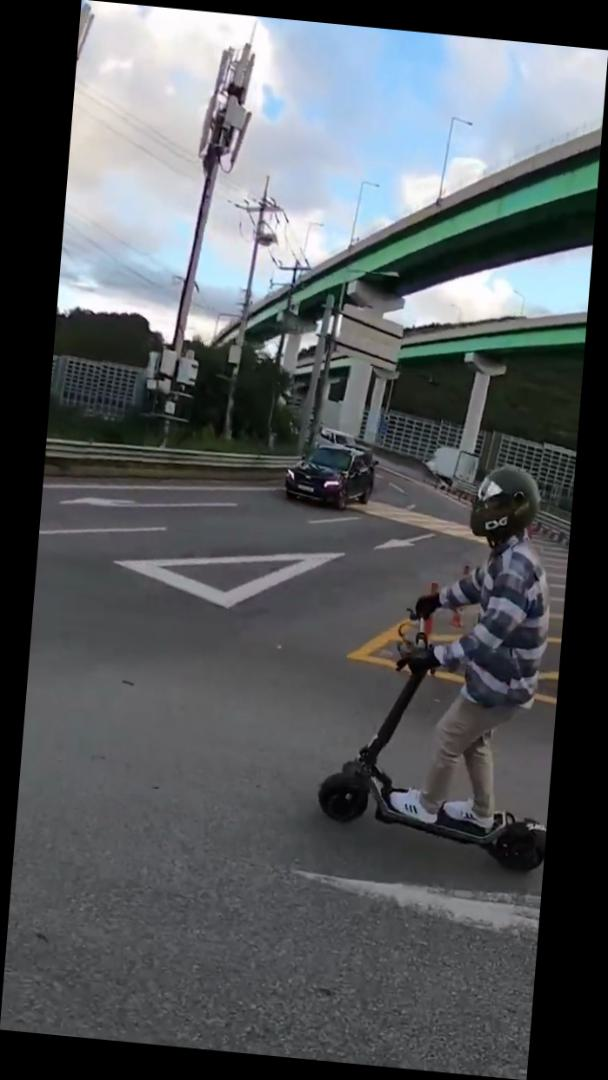helmet: (315, 447, 575, 872)
